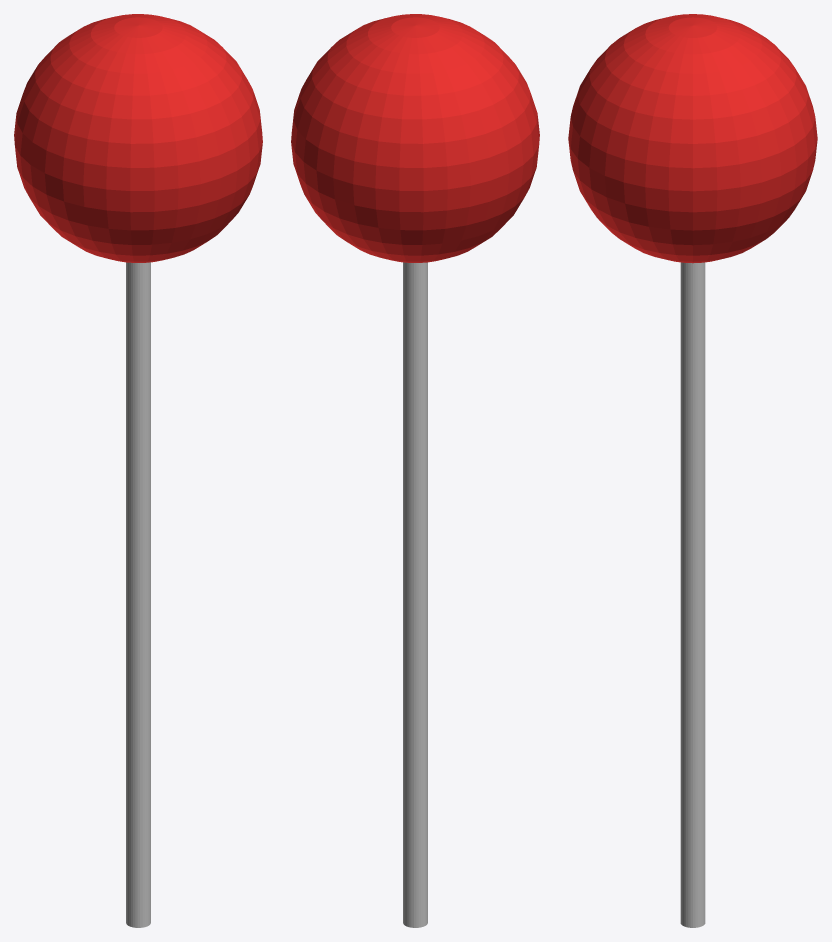
Rendered from pin.gltf.
The picture shows the model from 3 angles, left to right: view 1: azimuth 30°, elevation 25°; view 2: azimuth 150°, elevation 25°; view 3: azimuth 270°, elevation 25°; orthographic projection.
Parts seen in each view (by area): view 1: Pin; view 2: Pin; view 3: Pin.
Boxes of the visible parts, left/top/right/bottom form: Pin: left=14, top=14, right=262, bottom=927; Pin: left=291, top=14, right=539, bottom=927; Pin: left=568, top=14, right=817, bottom=927.
Size of the model in its own units: 2 by 7.94 by 2.
